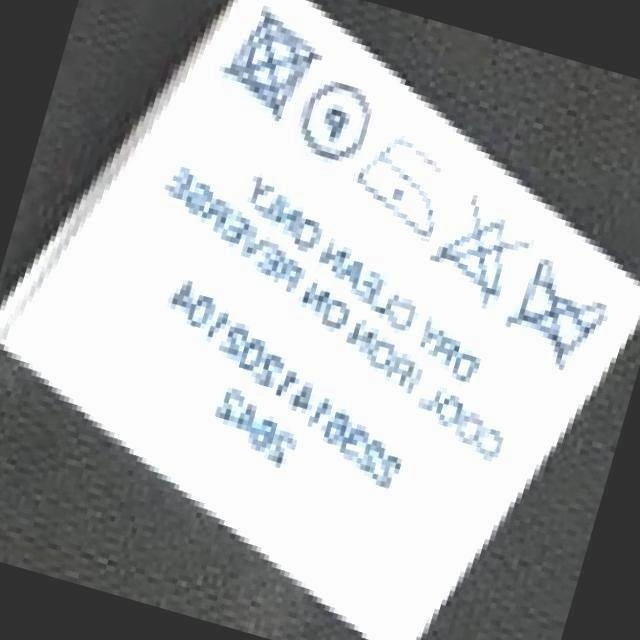DN_bleach: (436, 208, 517, 302)
DN_tumble_dry: (228, 17, 307, 117)
DN_wash: (511, 259, 604, 357)
dry_clean_any_solvent_except_trichloroethylene: (301, 80, 369, 164)
iron_low: (352, 142, 442, 240)
